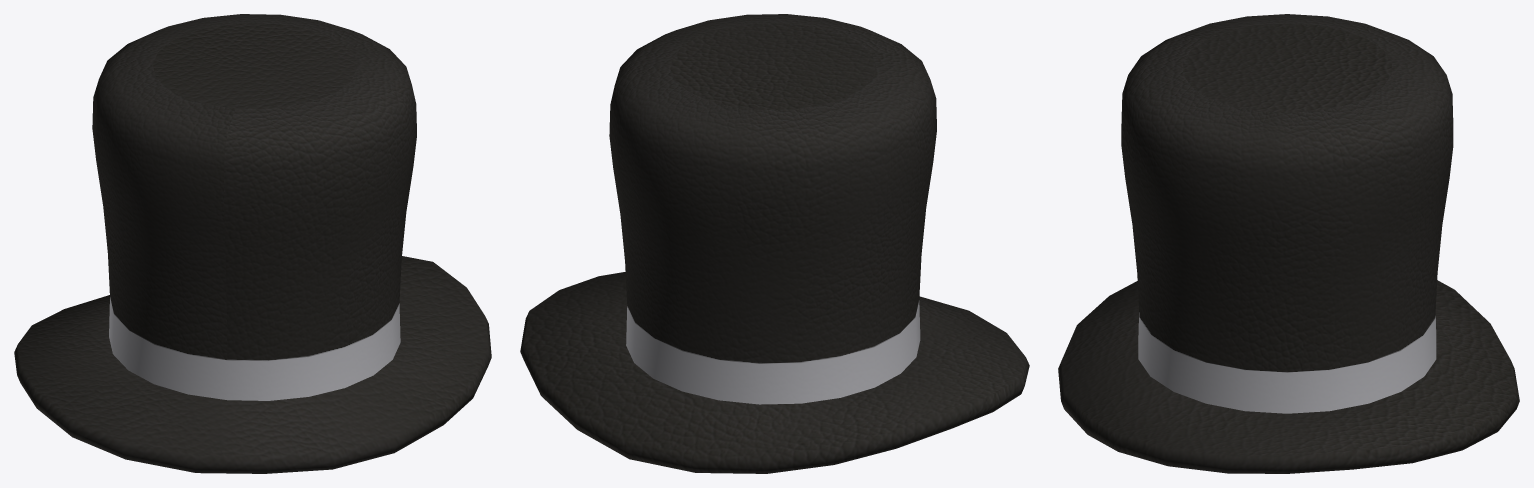
The model's file is Hat.FBX.
3 renders of one model, left to right at view 1: azimuth 30°, elevation 25°; view 2: azimuth 150°, elevation 25°; view 3: azimuth 270°, elevation 25°, orthographic. The views are drawn at different scales.
Parts seen in each view (by area): view 1: Hat; view 2: Hat; view 3: Hat.
Boxes of the visible parts, <box> form: Hat: <box>14,14,491,473</box>; Hat: <box>520,14,1029,473</box>; Hat: <box>1058,14,1519,473</box>.
Bounding box in the file's own units: 49.2 × 34.07 × 43.68.
Materials: 1 (1 with a texture image).
